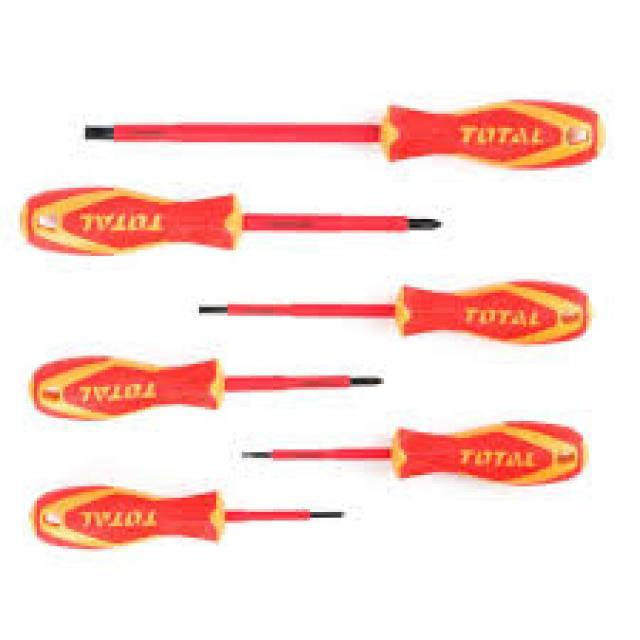screwdriver: (74, 96, 609, 170), (14, 182, 447, 256), (193, 274, 598, 348), (232, 416, 596, 491), (20, 353, 390, 424), (27, 482, 360, 553)
